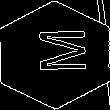M_W: (26, 31, 84, 79)
